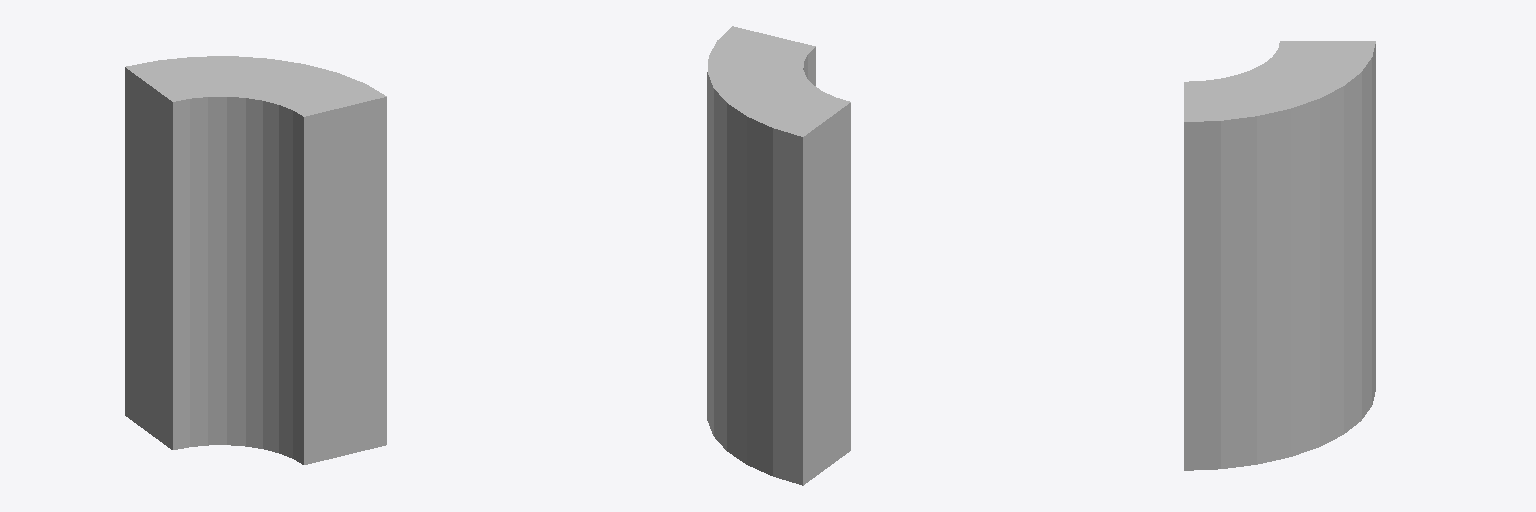
File: quarter_cylinder_hollow.obj
3 views of the same model, side by side, from view 1: azimuth 30°, elevation 25°; view 2: azimuth 150°, elevation 25°; view 3: azimuth 270°, elevation 25° (orthographic).
Parts seen in each view (by area): view 1: Cylinder_Cylinder.003; view 2: Cylinder_Cylinder.003; view 3: Cylinder_Cylinder.003.
Part boxes in pixels (bbox=[...]): Cylinder_Cylinder.003: bbox=[125, 56, 386, 464]; Cylinder_Cylinder.003: bbox=[707, 26, 850, 485]; Cylinder_Cylinder.003: bbox=[1184, 41, 1375, 470].
Bounding box in the file's own units: 1 × 2 × 1.